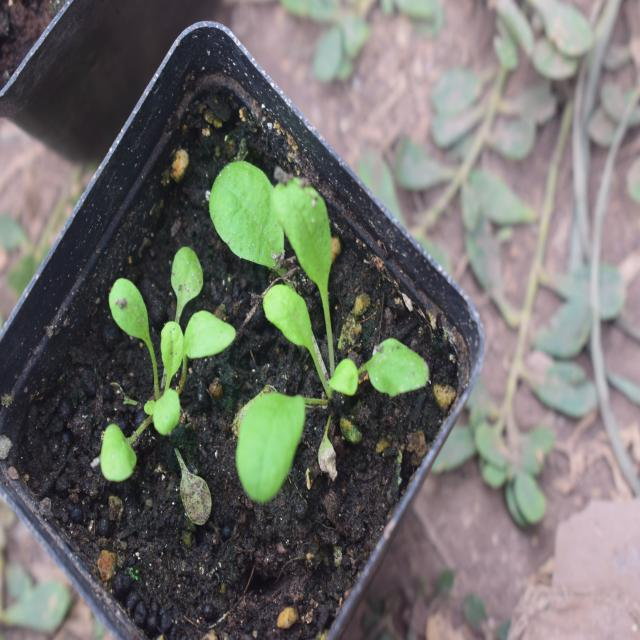Shepherd_Purse: (215, 158, 414, 488), (92, 235, 228, 450)
